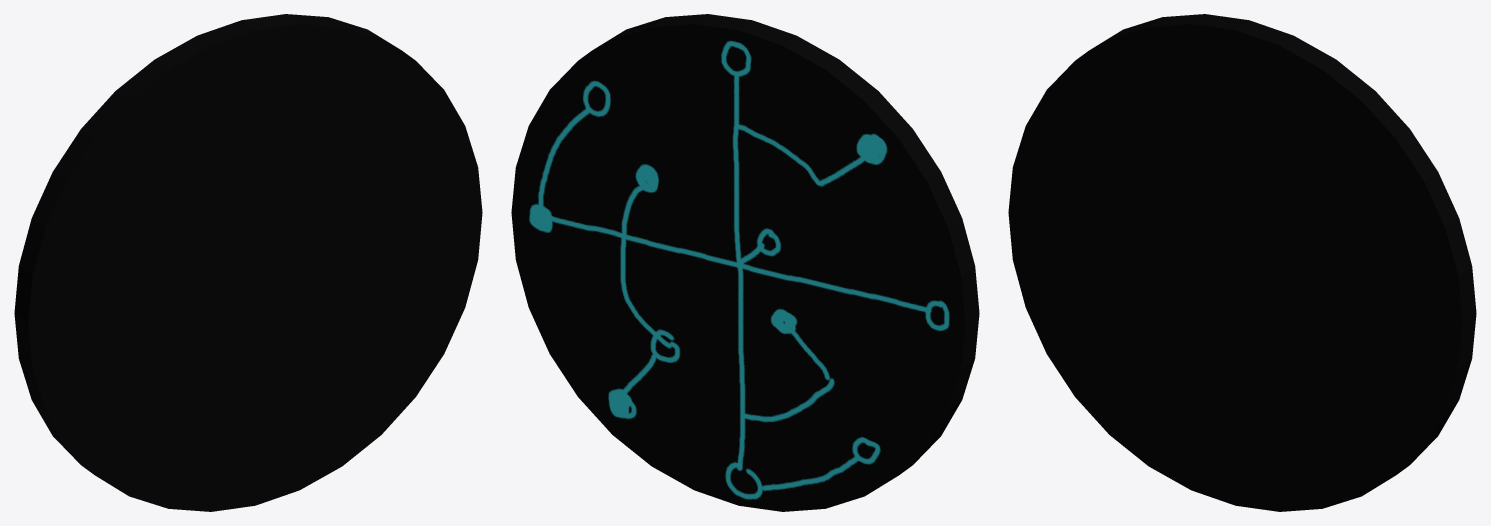
File: Door_Test.fbx
3 views of the same model, side by side, from view 1: azimuth 30°, elevation 25°; view 2: azimuth 150°, elevation 25°; view 3: azimuth 330°, elevation 25° (orthographic).
Visible parts, largest first — view 1: Cylinder.001, Cylinder.002, Cylinder; view 2: Cylinder.001, Cylinder.002, Cylinder; view 3: Cylinder.001, Cylinder.002, Cylinder.
Boxes of the visible parts, bbox=[...] form: Cylinder.001: bbox=[14, 14, 482, 511]; Cylinder.002: bbox=[96, 97, 414, 438]; Cylinder: bbox=[179, 186, 331, 349]; Cylinder.001: bbox=[511, 14, 979, 511]; Cylinder.002: bbox=[579, 97, 897, 438]; Cylinder: bbox=[662, 186, 814, 349]; Cylinder.001: bbox=[1008, 14, 1476, 511]; Cylinder.002: bbox=[1076, 97, 1394, 438]; Cylinder: bbox=[1159, 186, 1311, 349].
Bounding box in the file's own units: 597 × 597 × 31.52.
1 material, 1 textured.
